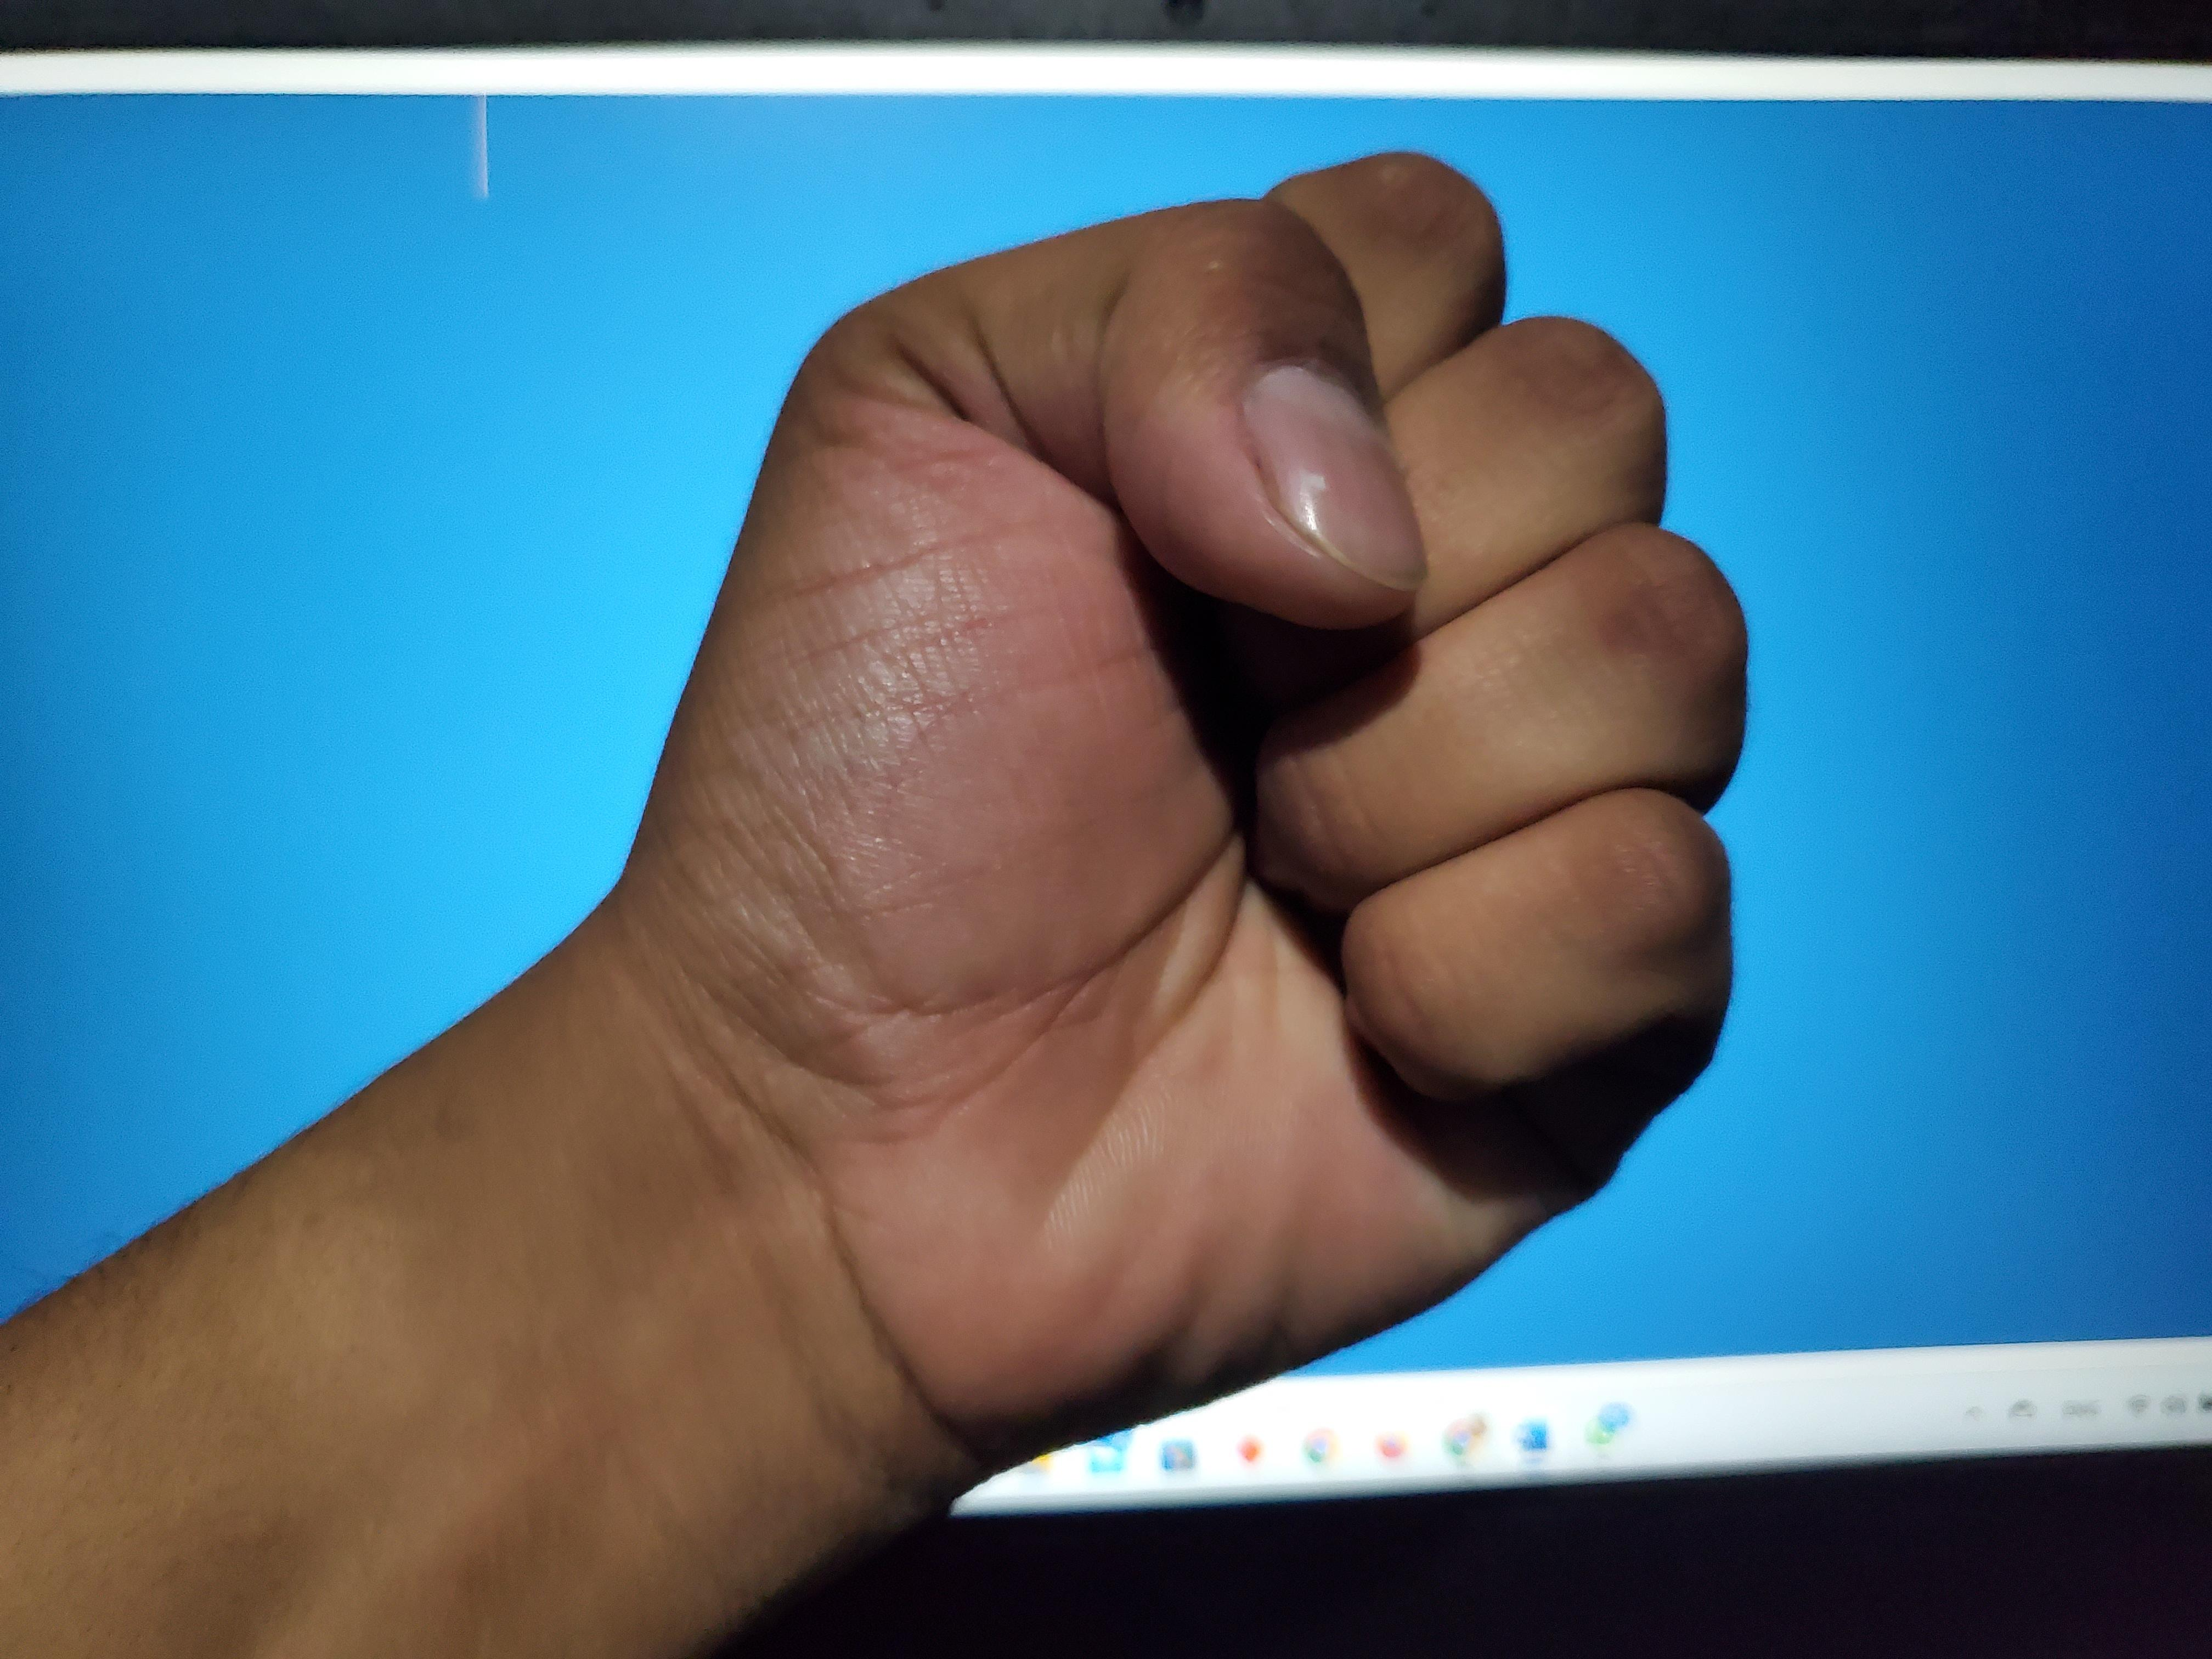Stone: (221, 94, 2116, 1514)
